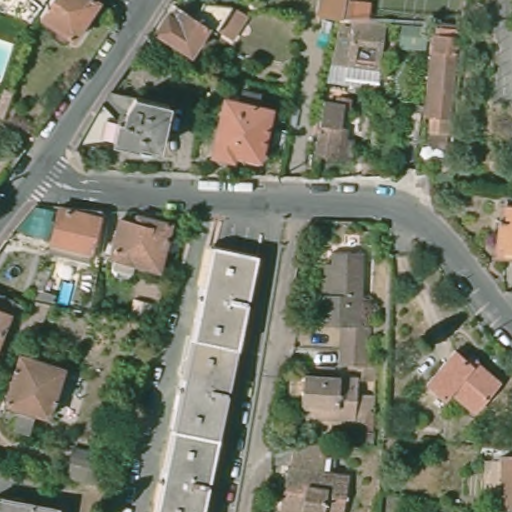pool: (1, 36, 18, 87), (51, 273, 76, 307)
